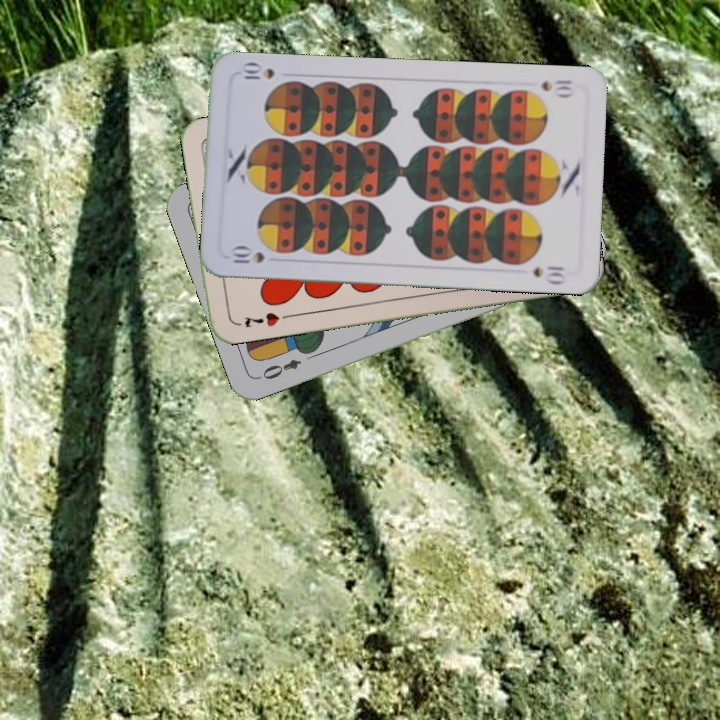EO: (253, 355, 304, 382)
H7: (240, 308, 282, 331)
S10: (537, 75, 576, 100), (228, 244, 268, 266)
